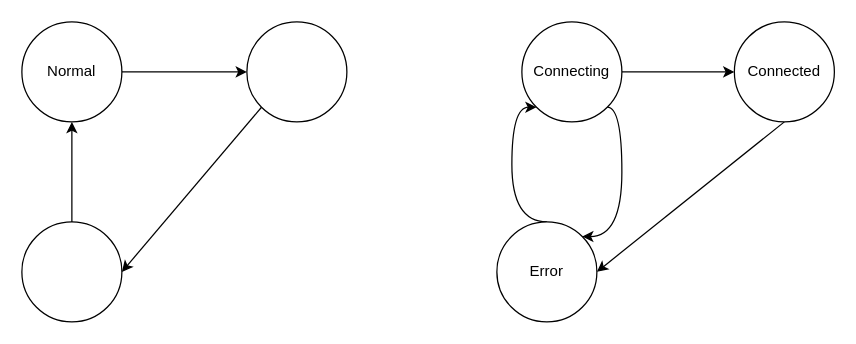
Image size: 856x344. Some labels were removed from this diagram. The centre of each missing label's shape, as x and y in pixels:
"Hot" belongs at (296,71).
"Too Hot" belongs at (71,271).
